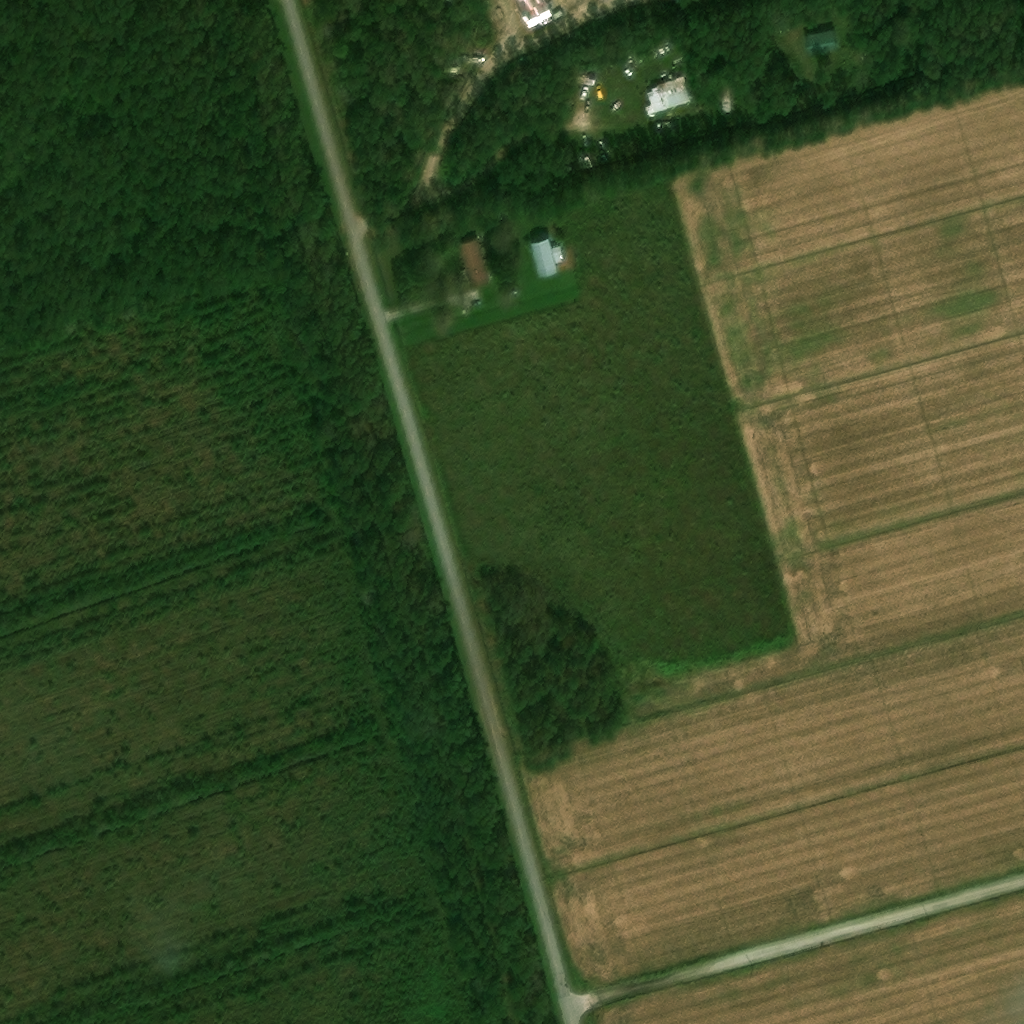no_damage: (645, 74, 700, 117), (458, 239, 491, 290), (528, 237, 566, 275), (513, 0, 552, 29), (804, 29, 838, 53), (720, 81, 733, 115), (576, 76, 597, 87)
unclassified: (466, 0, 482, 9)
